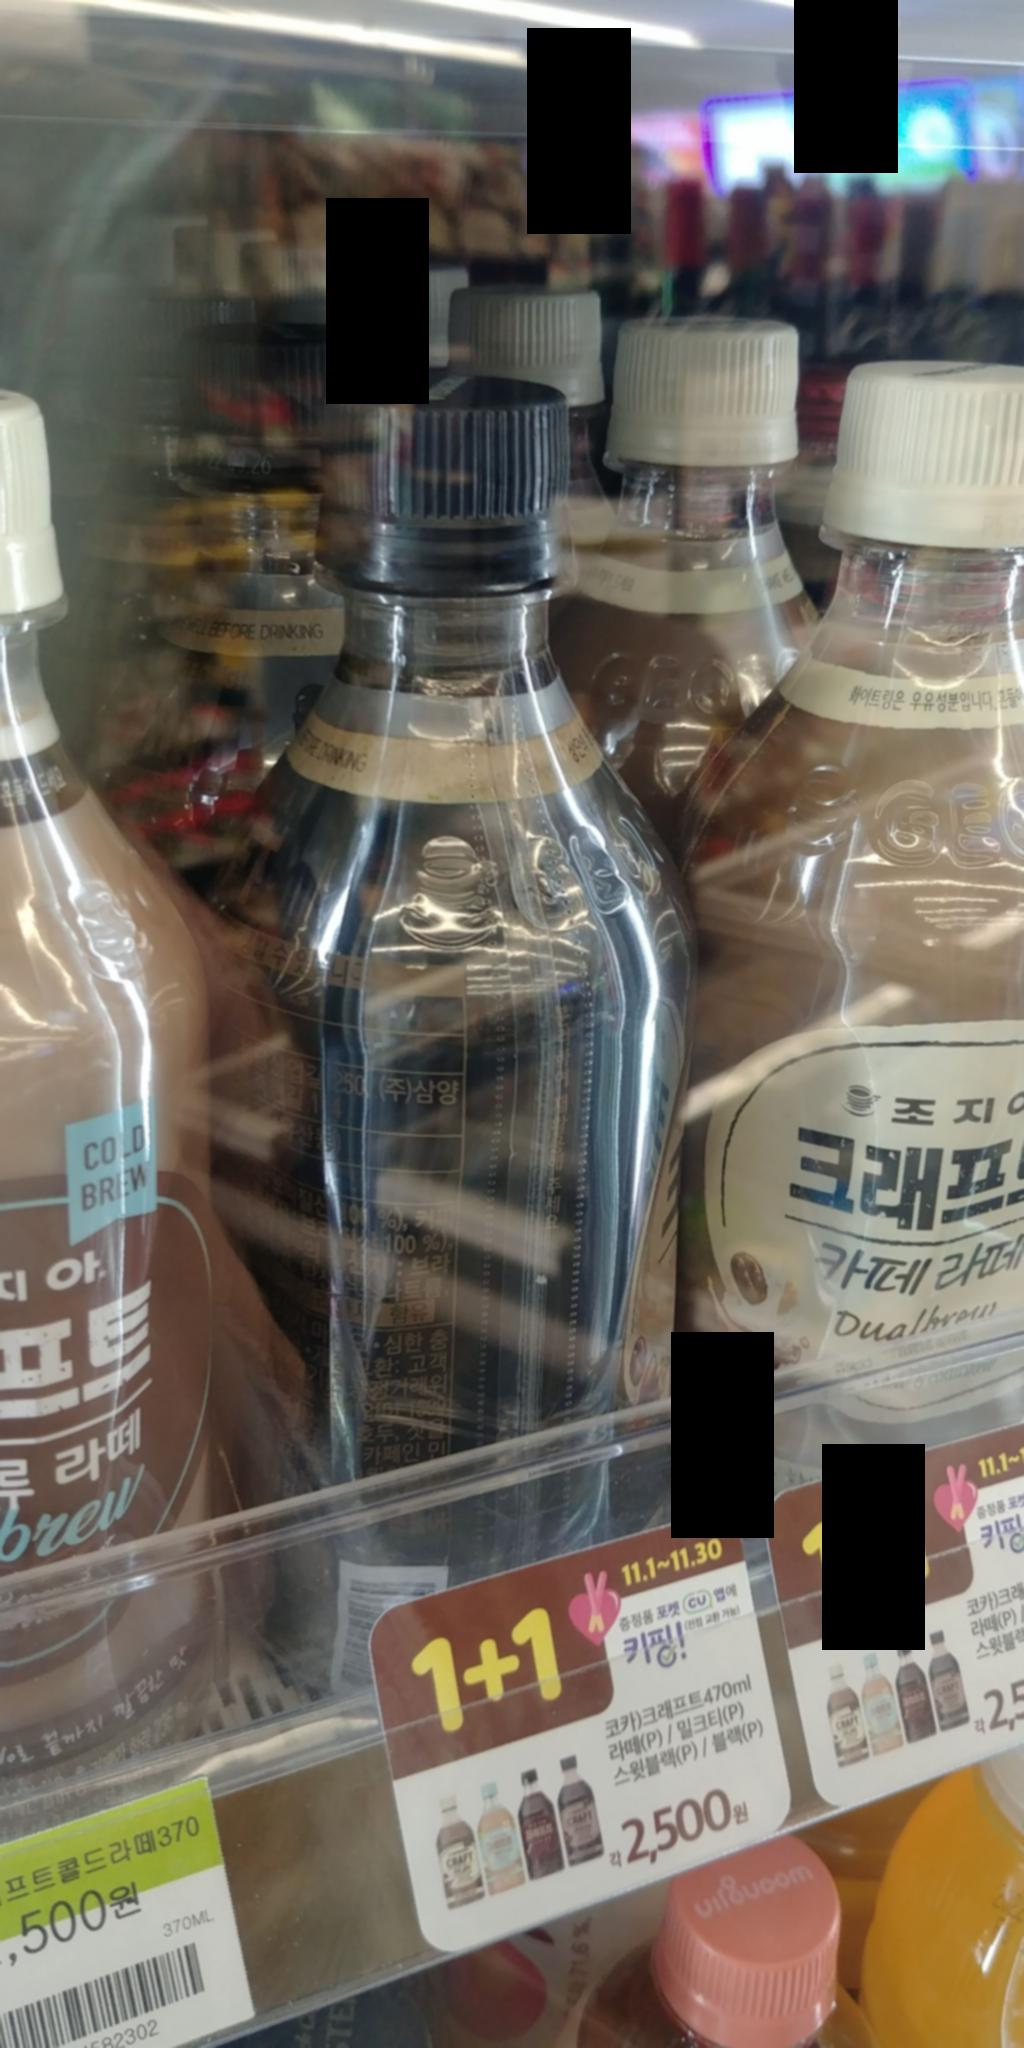georgiacraft_black: (179, 354, 691, 1691)
